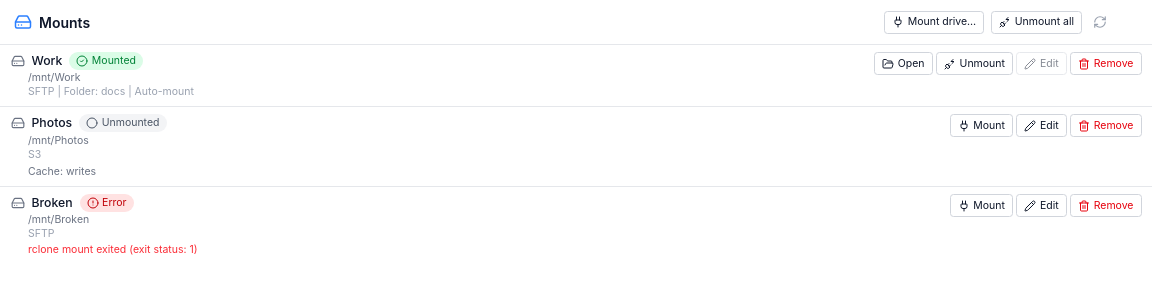
Test: Mounts list › unmounts everything and reports it
The width and height of the screenshot is (1152, 301).
Expected: the text "Work" is shown, [32, 52, 62, 70]
Click the button "Unmount all".
click(1037, 22)  # box [991, 10, 1082, 34]
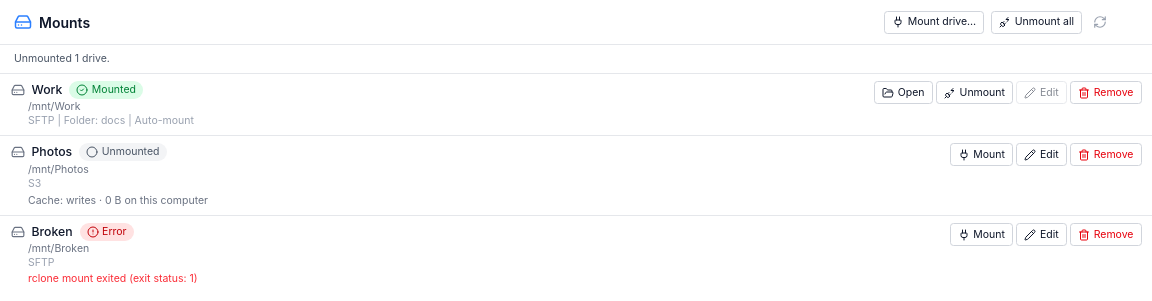
Result: the message reads "Unmounted 1 drive." at [14, 52, 110, 65]
Click the button "Unmount all".
click(1037, 22)  # box [991, 10, 1082, 34]
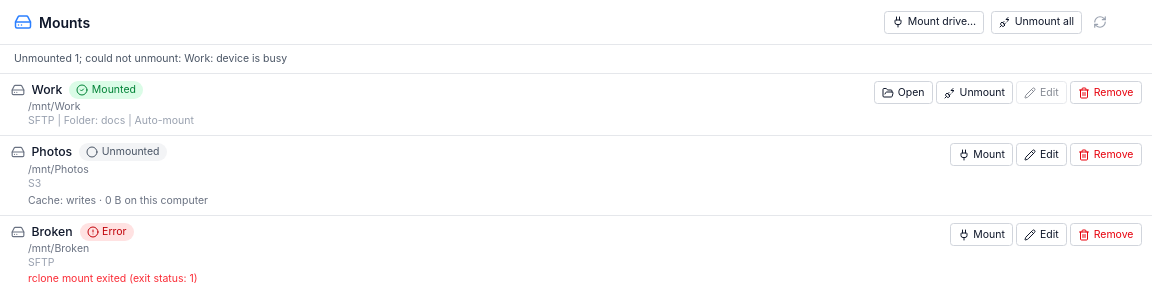
Result: the message shows "could not unmount: Work: device is busy" at [14, 52, 287, 65]
